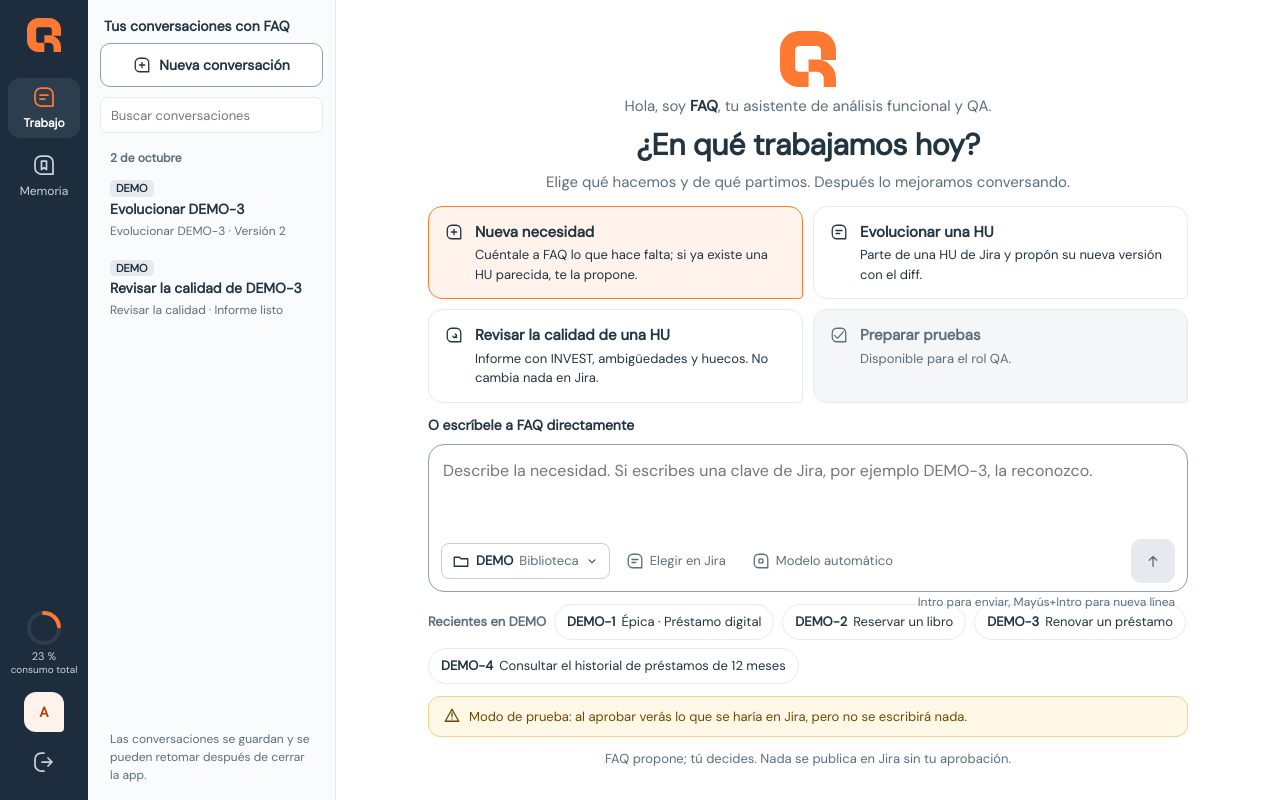
Test case: Iterar con los diffs de la API real (PA-341) › la v1 sin versión «Jira» marca CA-02 como «Nueva» y RN-01 como «Cambiado en v1»
The width and height of the screenshot is (1280, 800).
Click the button "DEMO Evolucionar DEMO-3 Evolucionar DEMO-3 · Versión 2": click(212, 210) [100,171,323,248]
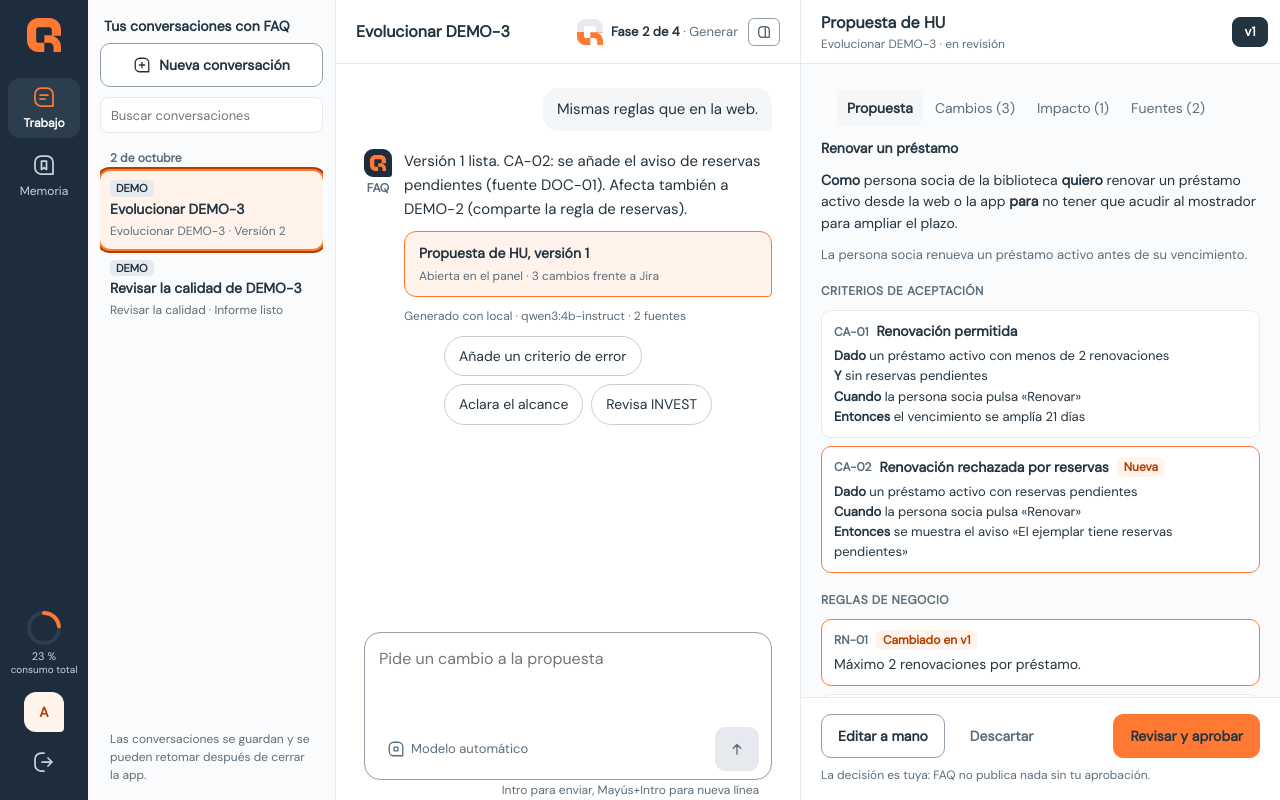
Expected: the text "Nueva" is shown, [1117,457,1165,477]
Result: the buttons read "v1", in this order at [1232,16,1268,46]
Result: the text "Cambiado en v1" is shown at [876,630,977,650]
